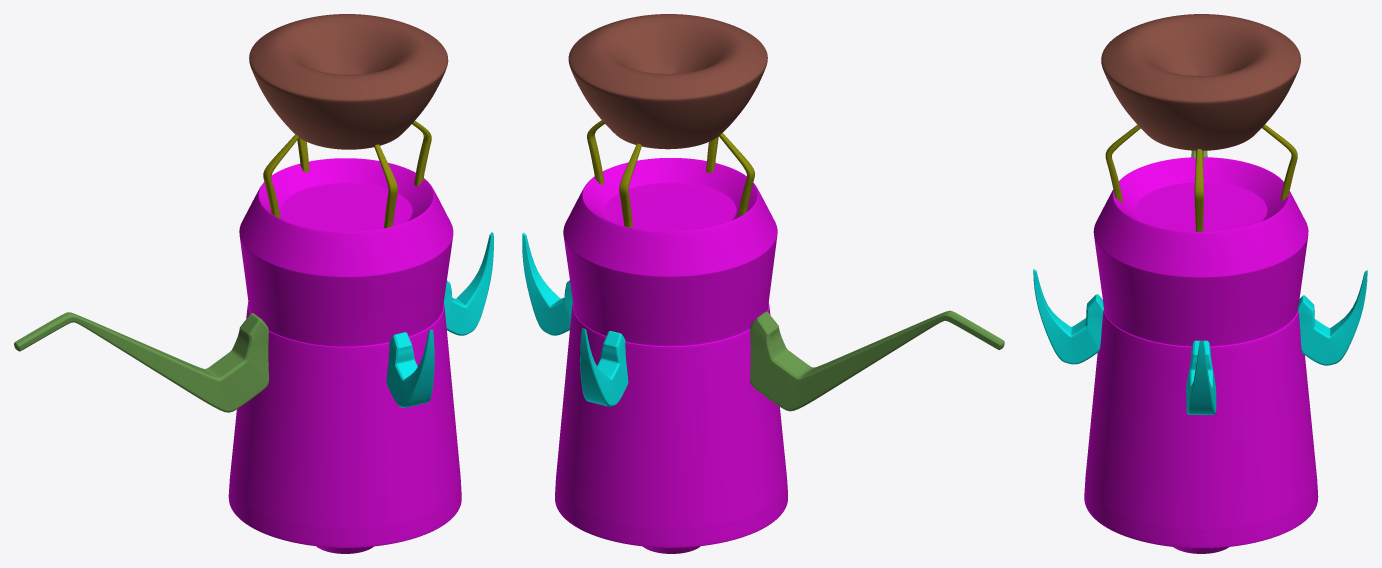
The model's file is SCUBA_scooter.fbx.
3 views of the same model, side by side, from view 1: azimuth 30°, elevation 25°; view 2: azimuth 150°, elevation 25°; view 3: azimuth 270°, elevation 25° (orthographic).
Visible parts, largest first — view 1: base, top_thruster, handle1, front_fin1, front_fin, top_arm_front, top_arm_left, top_arm_right; view 2: base, top_thruster, handle1, front_fin2, front_fin, top_arm_back, top_arm_left; view 3: base, top_thruster, front_fin1, front_fin2, front_fin, top_arm_right, top_arm_front, top_arm_back.
Part boxes in pixels (left/top/right/bottom): base: left=228, top=158, right=461, bottom=553; top_thruster: left=249, top=14, right=448, bottom=149; handle1: left=14, top=312, right=268, bottom=412; front_fin1: left=386, top=329, right=434, bottom=407; front_fin: left=444, top=232, right=493, bottom=335; top_arm_front: left=374, top=144, right=397, bottom=228; top_arm_left: left=263, top=134, right=299, bottom=218; top_arm_right: left=412, top=121, right=431, bottom=186; base: left=555, top=158, right=787, bottom=553; top_thruster: left=568, top=14, right=767, bottom=149; handle1: left=750, top=310, right=1004, bottom=411; front_fin2: left=580, top=328, right=628, bottom=406; front_fin: left=522, top=233, right=572, bottom=335; top_arm_back: left=619, top=143, right=641, bottom=227; top_arm_left: left=719, top=133, right=754, bottom=217; base: left=1084, top=157, right=1318, bottom=553; top_thruster: left=1101, top=14, right=1300, bottom=150; front_fin1: left=1033, top=269, right=1103, bottom=364; front_fin2: left=1297, top=270, right=1367, bottom=365; front_fin: left=1186, top=340, right=1216, bottom=414; top_arm_right: left=1194, top=149, right=1203, bottom=231; top_arm_front: left=1105, top=125, right=1140, bottom=202; top_arm_back: left=1262, top=124, right=1297, bottom=201.
Bounding box in the file's own units: 5.97 × 5.88 × 3.6.
